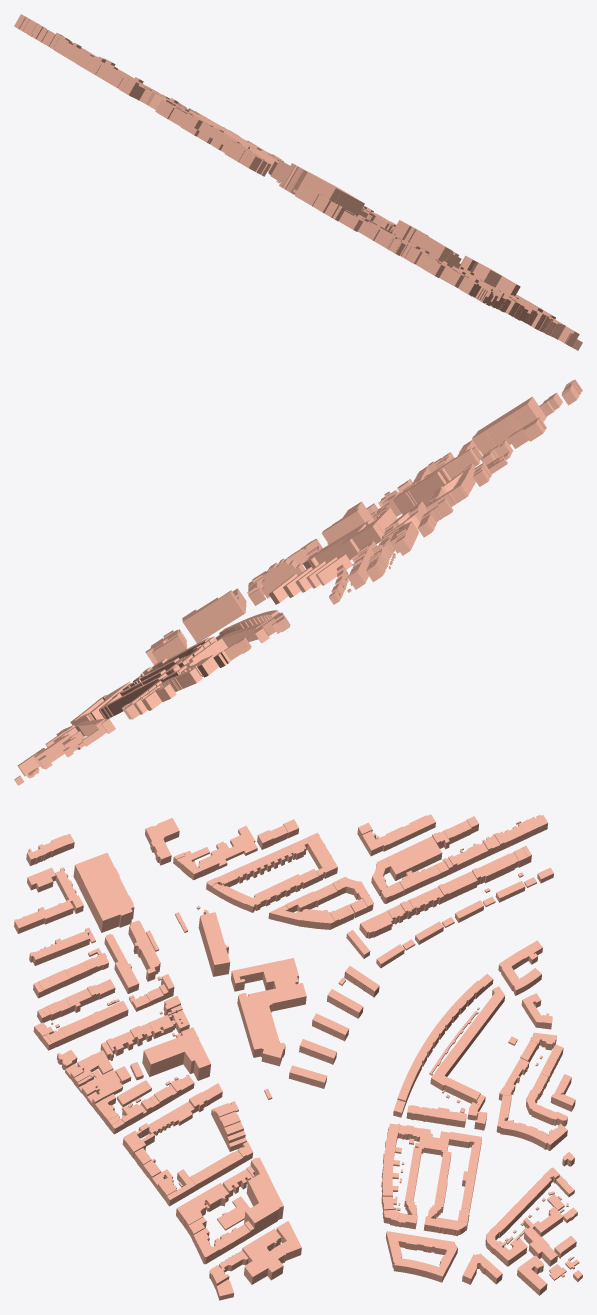
3 renders of one model, top to bottom at view 1: azimuth 30°, elevation 25°; view 2: azimuth 150°, elevation 25°; view 3: azimuth 270°, elevation 25°, orthographic. The views are drawn at different scales.
Bounding box in the file's own units: 522 × 398 × 658.
